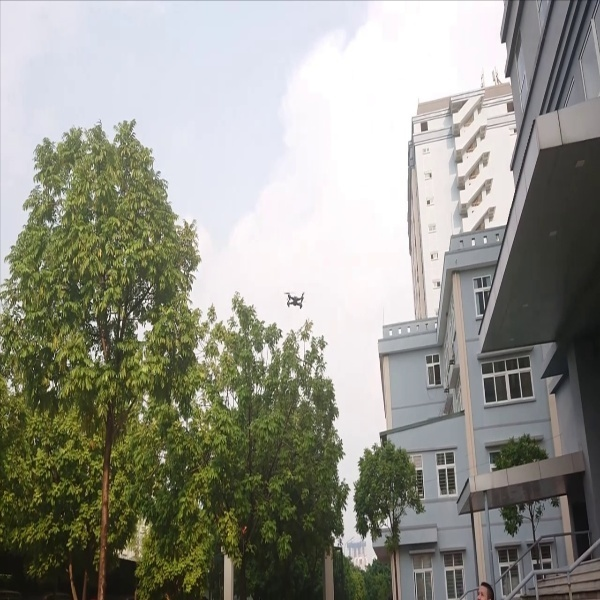drone: (280, 286, 310, 314)
